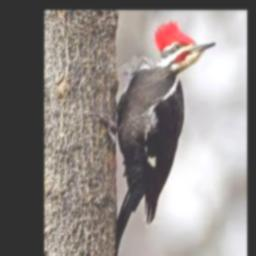Woodpecker: (90, 22, 215, 256)
